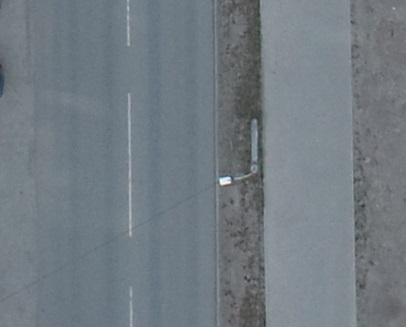opora: (216, 117, 263, 189)
